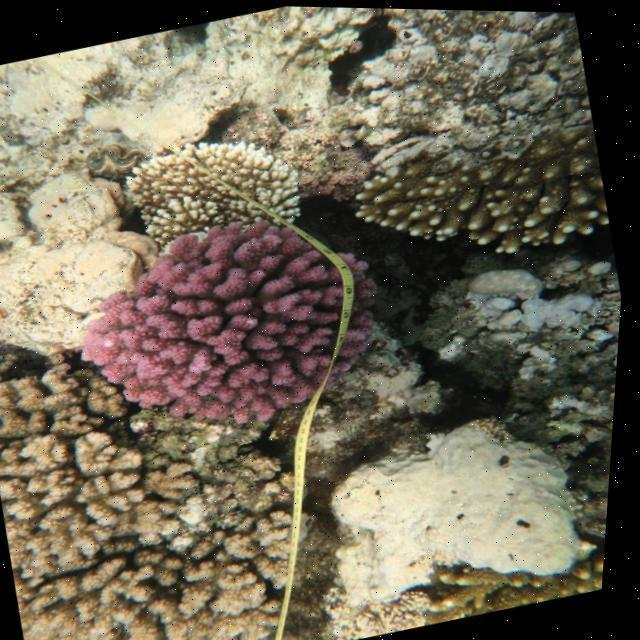Bleached Coral: (332, 437, 580, 600)
Healthy Coral: (54, 185, 410, 460), (364, 152, 634, 248), (141, 140, 331, 246)
